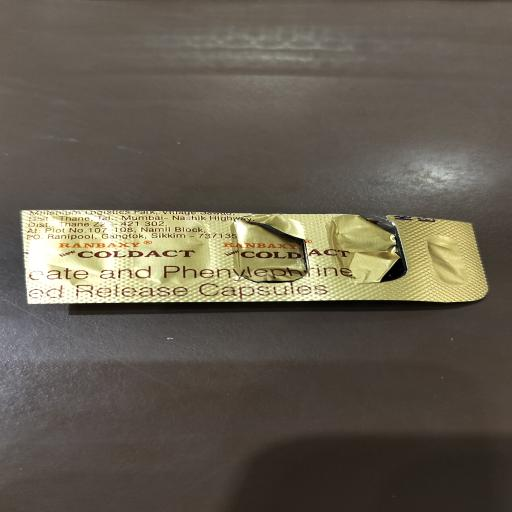coldact: (224, 240, 363, 263), (80, 248, 195, 260)
medicine: (18, 213, 482, 300)
